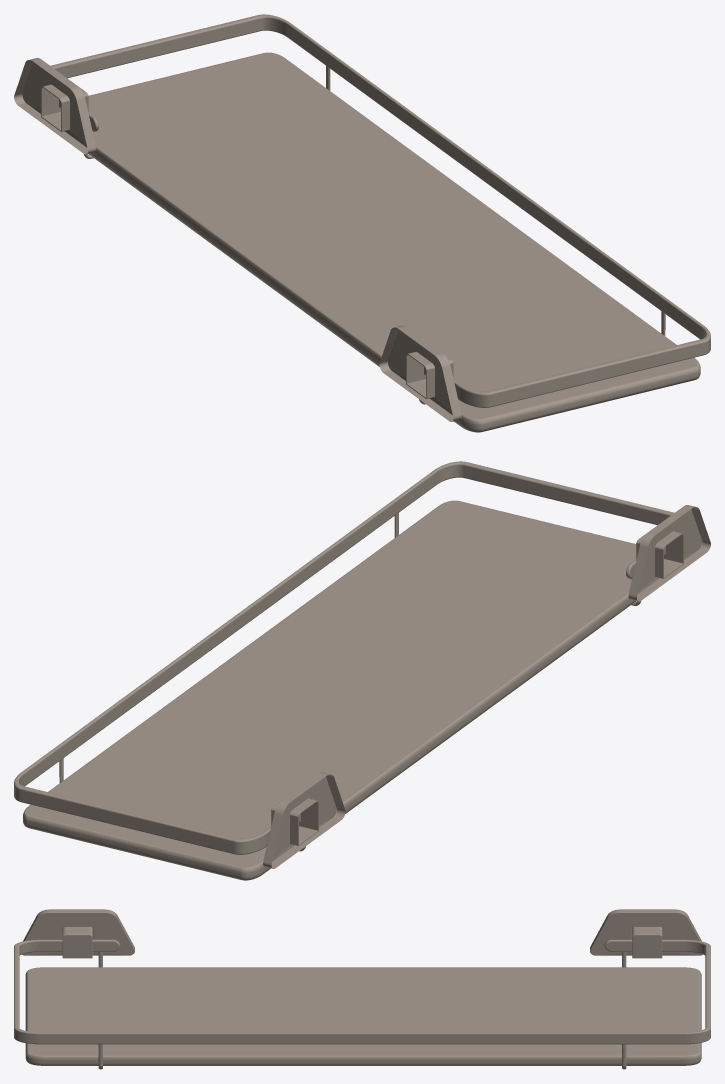
Rendered from TowelShelf_11.3.fbx.
3 renders of one model, top to bottom at view 1: azimuth 30°, elevation 25°; view 2: azimuth 150°, elevation 25°; view 3: azimuth 270°, elevation 25°, orthographic. The views are drawn at different scales.
Visible parts, largest first — view 1: Toilet_05:Arch46_060_2; view 2: Toilet_05:Arch46_060_2; view 3: Toilet_05:Arch46_060_2.
Part boxes in pixels (x1,y1,x2,y2): Toilet_05:Arch46_060_2: [14, 14, 710, 432]; Toilet_05:Arch46_060_2: [14, 461, 710, 880]; Toilet_05:Arch46_060_2: [14, 909, 710, 1069].
Size of the model in its own units: 30.61 by 8.74 by 89.71.
